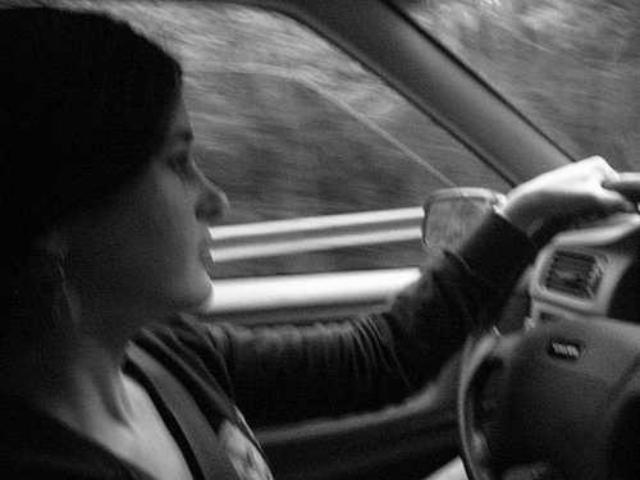Seatbelt: (118, 334, 245, 480)
